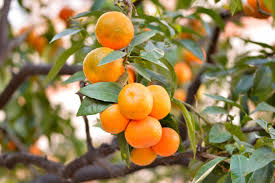orange: (79, 47, 126, 84), (95, 12, 136, 47), (143, 80, 175, 120), (117, 84, 154, 118), (123, 119, 164, 147), (97, 103, 128, 133), (154, 128, 184, 157)
